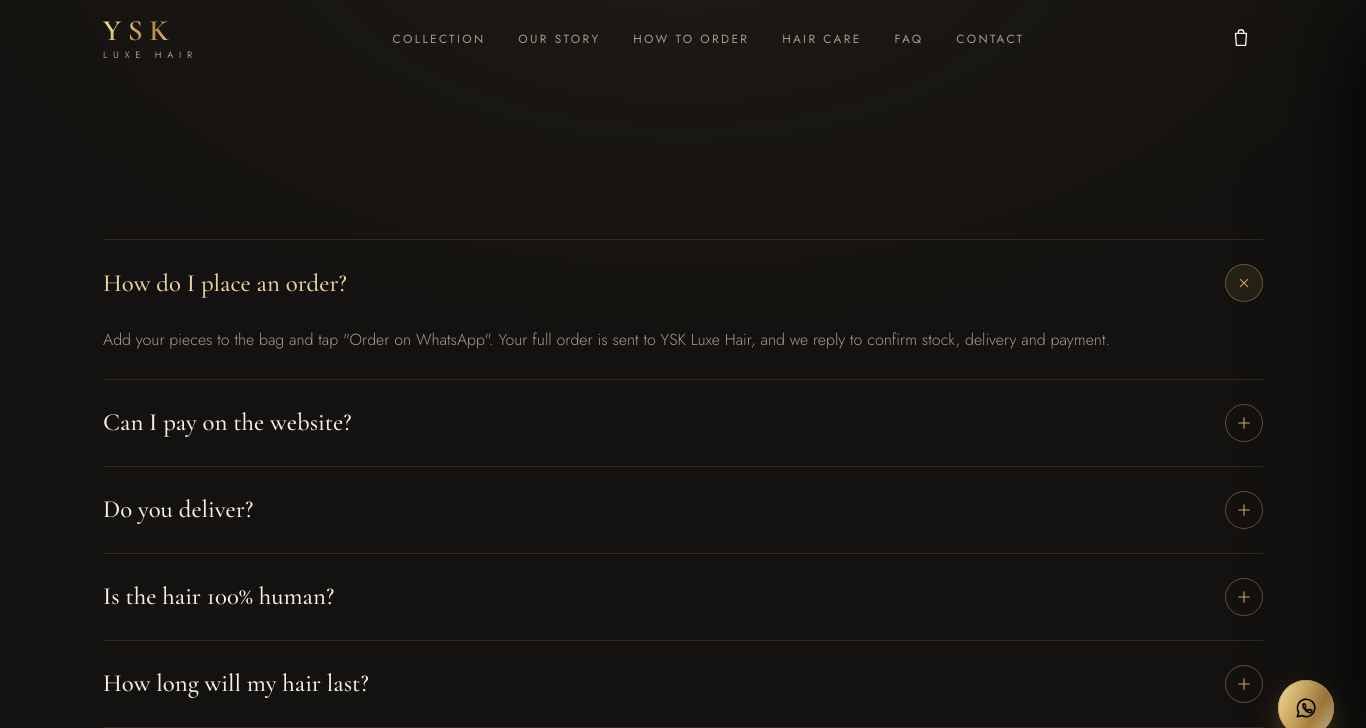
it: Page sections › toggles FAQ answers
(page scrolled)
What coordinates should you click on to do the following:
click the button "Can I pay on the website?"
I would click on:
 (227, 422)
Its box is 103,380 -> 1263,466.
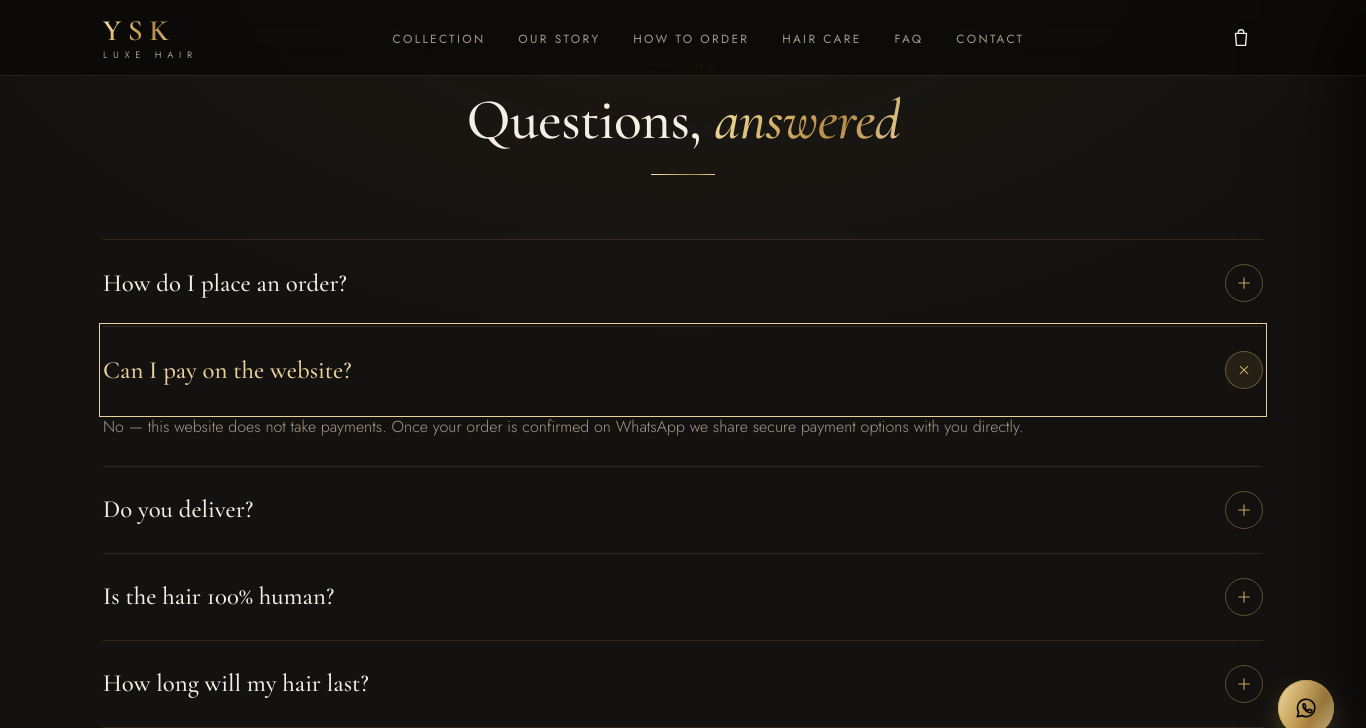
Expected: the button "Can I pay on the website?" is expanded, 103,327 -> 1263,413
Expected: the text "this website does not take payments" is shown, 103,415 -> 1024,438
